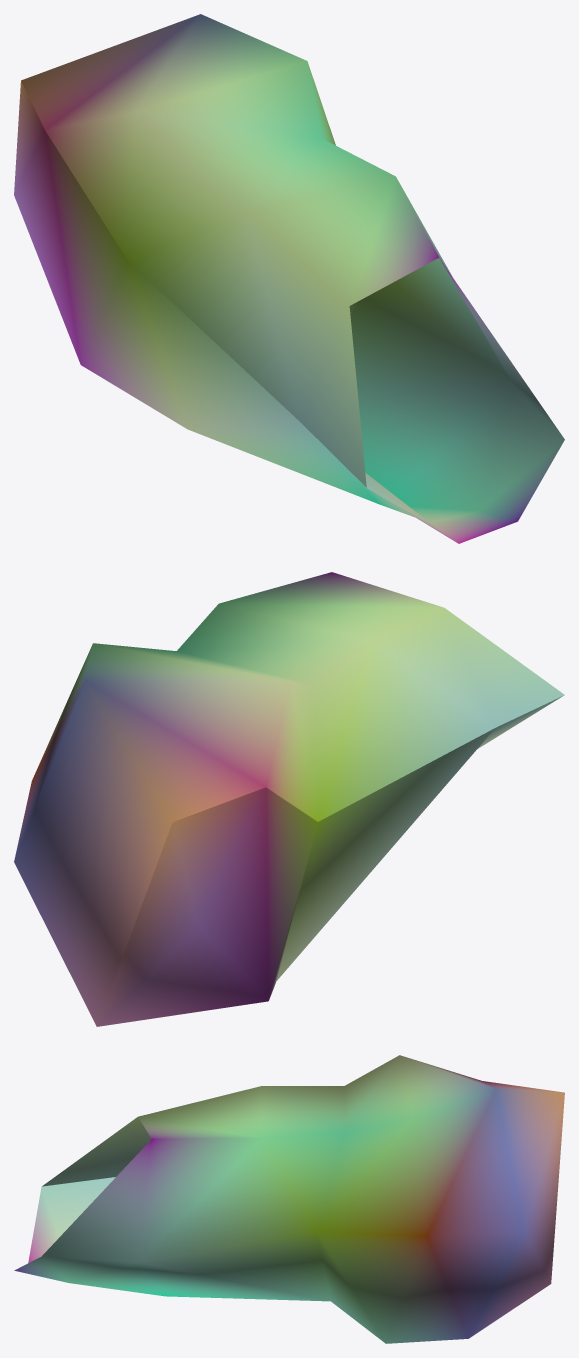
3 views of the same model, one above another, from view 1: azimuth 30°, elevation 25°; view 2: azimuth 150°, elevation 25°; view 3: azimuth 270°, elevation 25° (orthographic). The views are drawn at different scales.
Visible parts, largest first — view 1: part; view 2: part; view 3: part.
Boxes of the visible parts, x1=… form: part: x1=14, y1=14, x2=564, y2=543; part: x1=14, y1=572, x2=564, y2=1026; part: x1=14, y1=1055, x2=564, y2=1343.
Size of the model in its own units: 16 by 20 by 40.
